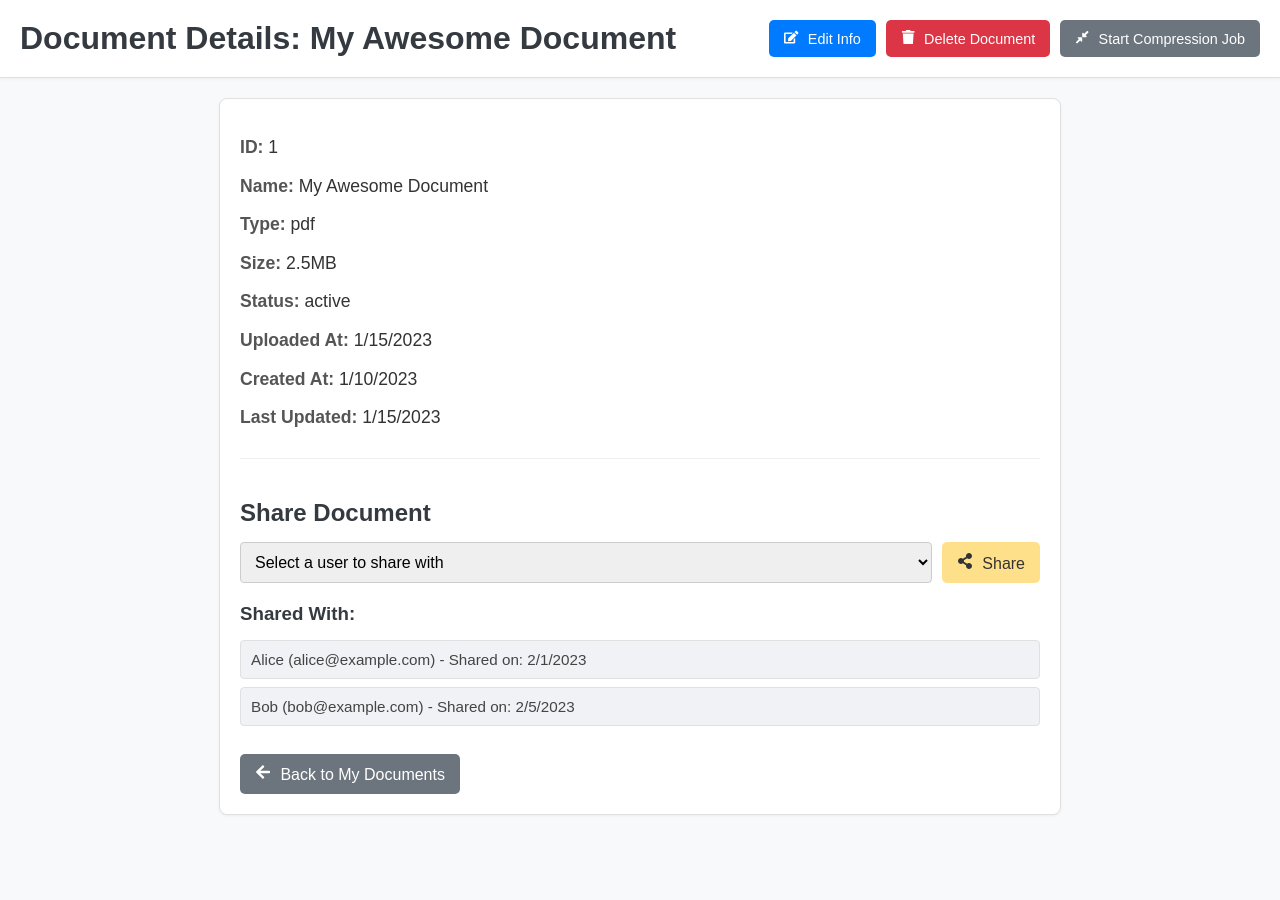
it: DocumentDetailPage › handles starting compression job
This screenshot has width=1280, height=900.
Click the button "Start Compression Job" at (1160, 39), box [1060,20,1260,57]
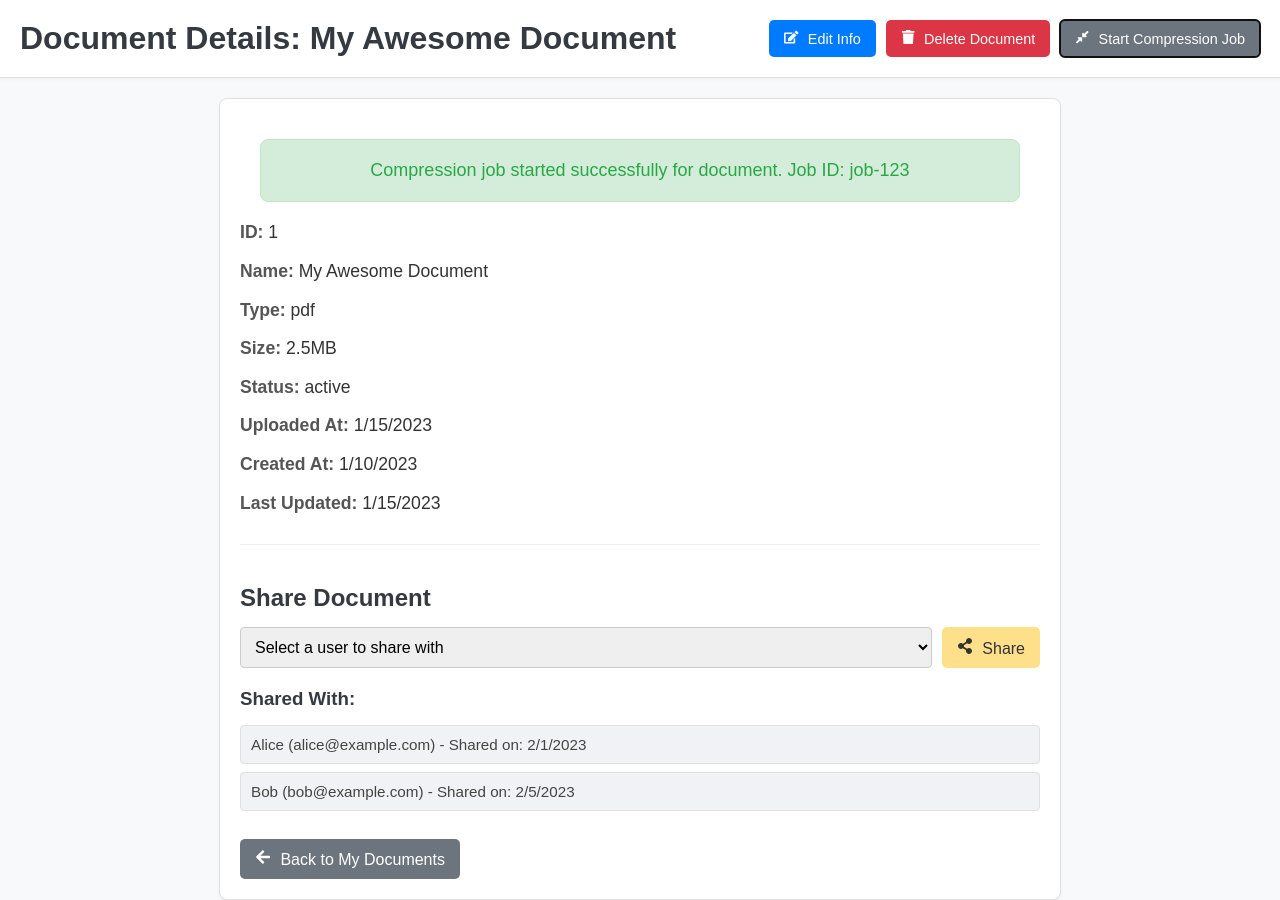
Check: the text "Compression job started successfully for document. Job ID: job-123" is shown, box [260,139,1020,202]
